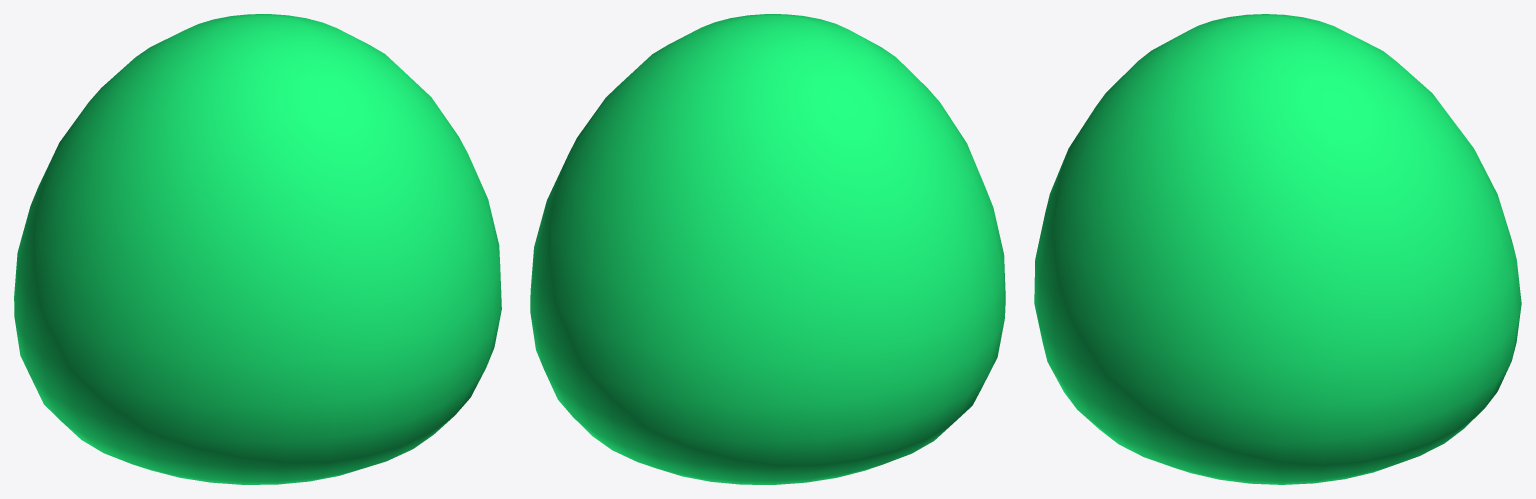
Rendered from monkey.fbx.
3 views of the same model, side by side, from view 1: azimuth 30°, elevation 25°; view 2: azimuth 150°, elevation 25°; view 3: azimuth 270°, elevation 25° (orthographic). The views are drawn at different scales.
Parts seen in each view (by area): view 1: skin2; view 2: skin2; view 3: skin2.
Boxes of the visible parts, x1,y1,x2,y2 form: skin2: (14, 14, 501, 484); skin2: (530, 14, 1005, 484); skin2: (1034, 14, 1521, 484).
Size of the model in its own units: 171 by 154 by 171.
